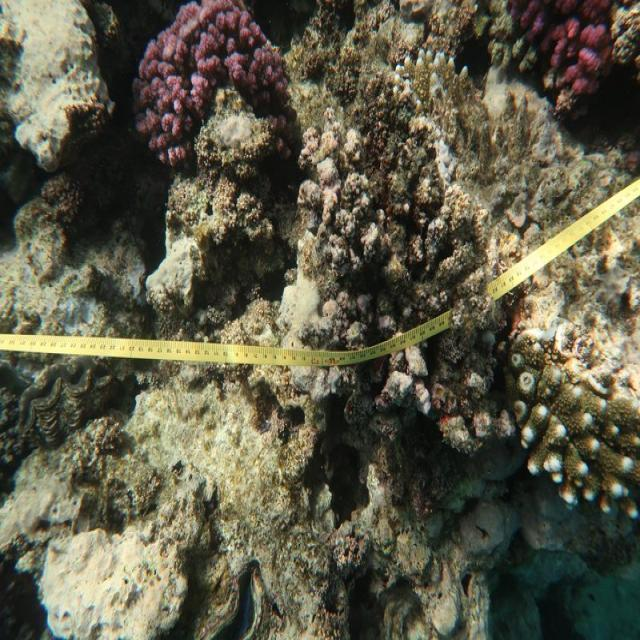Healthy Coral: (122, 0, 293, 158), (501, 0, 632, 109)
